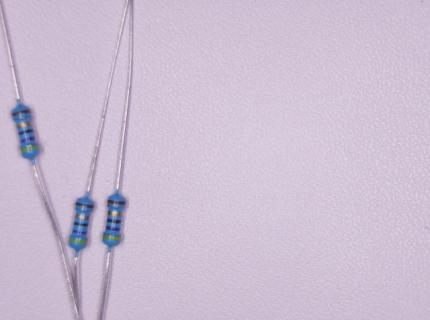Black band: (19, 129, 34, 136), (74, 221, 88, 227), (107, 218, 122, 223)
Brown band: (11, 109, 32, 117), (76, 202, 94, 209), (107, 199, 126, 205)
Gold band: (17, 121, 32, 129), (108, 210, 122, 217), (75, 214, 89, 220)
Violet band: (20, 136, 36, 144), (106, 225, 120, 231), (73, 229, 86, 235)
Yellow band: (21, 145, 38, 153), (70, 237, 87, 244), (103, 234, 120, 241)
